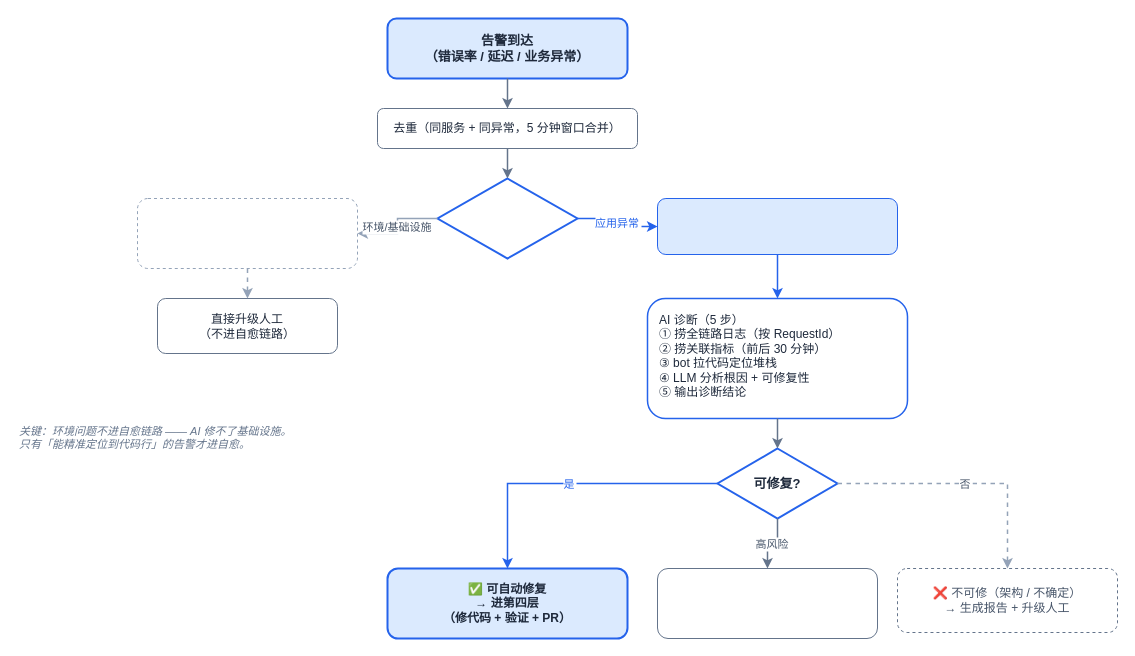
The diagram is 1135 pixels wide and 656 high, and some of its shapes have lost their labels. Each missing label, with the centre of its shape:
⚠️ 可修但风险高 → 生成报告 + 飞书通知 → 人决策: point 767,603
基础设施异常 Connection refused / OOM disk full: point 247,233
应用异常 NPE / SQLException / Timeout: point 777,226
异常类型?: point 507,218
